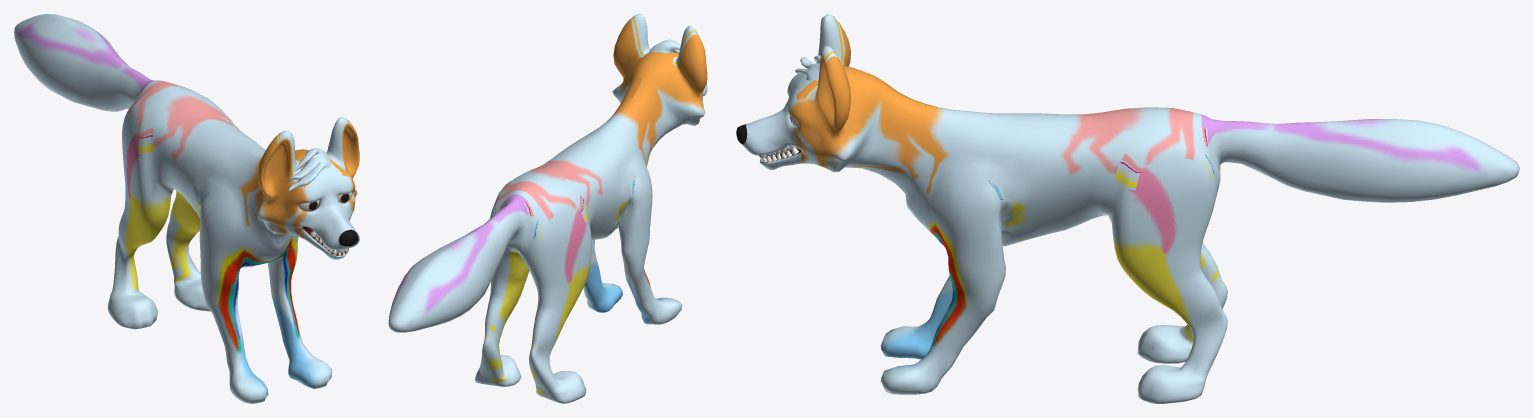
The picture shows the model from 3 angles, left to right: view 1: azimuth 30°, elevation 25°; view 2: azimuth 150°, elevation 25°; view 3: azimuth 270°, elevation 25°; orthographic projection. The views are drawn at different scales.
Visible parts, largest first — view 1: Dog_Material.006_0, bang_Material.006_0; view 2: Dog_Material.006_0, bang_Material.006_0; view 3: Dog_Material.006_0.
Boxes of the visible parts, x1,y1,x2,y2 form: Dog_Material.006_0: (14,14,359,403); bang_Material.006_0: (288,148,331,191); Dog_Material.006_0: (388,14,707,403); bang_Material.006_0: (649,39,680,53); Dog_Material.006_0: (741,14,1519,403).
Size of the model in its own units: 35.75 by 90.74 by 187.
